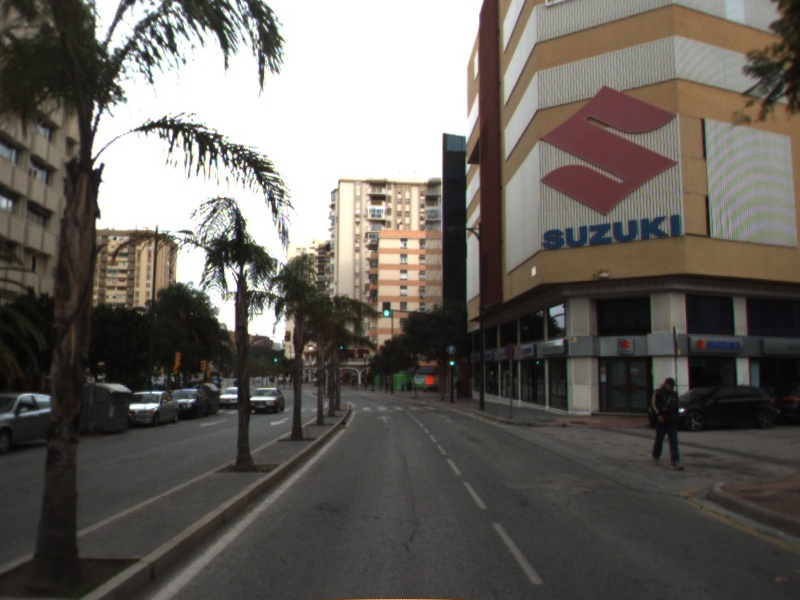STRAIGHT: (375, 413, 394, 425)
